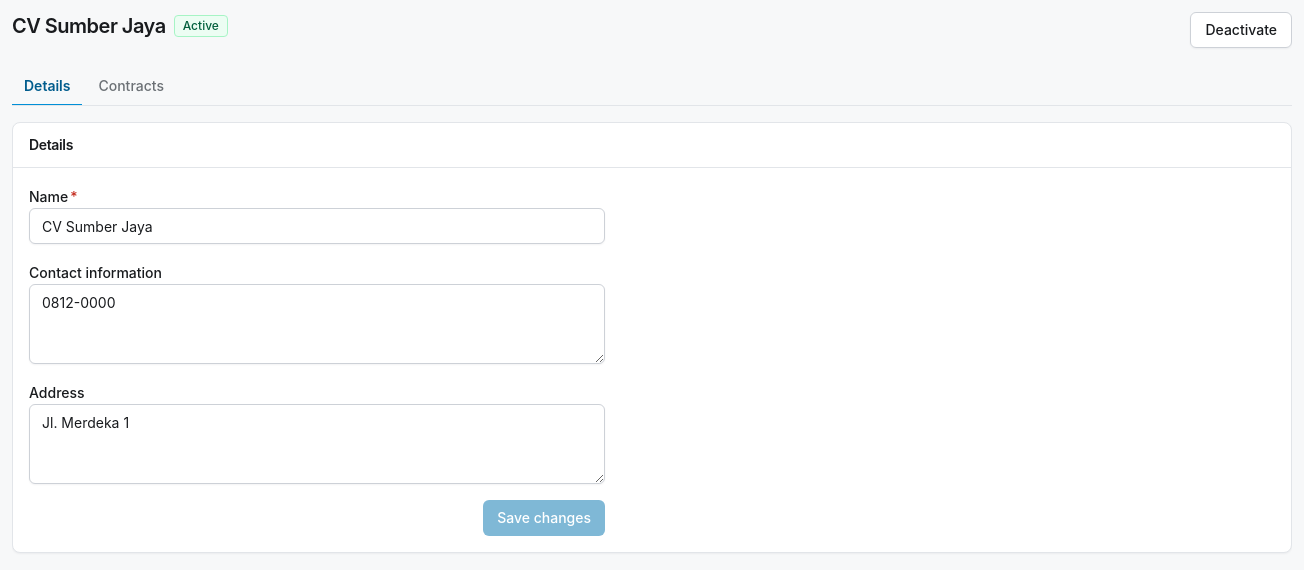
Test: SupplierDetailPage › lists the supplier’s contracts (REQ-SUPPLIER-003)
Expected: the heading "CV Sumber Jaya" is shown, x1=12 y1=12 x2=166 y2=40
Click the tab "Contracts": coordinates (131, 87) x1=86 y1=68 x2=176 y2=106
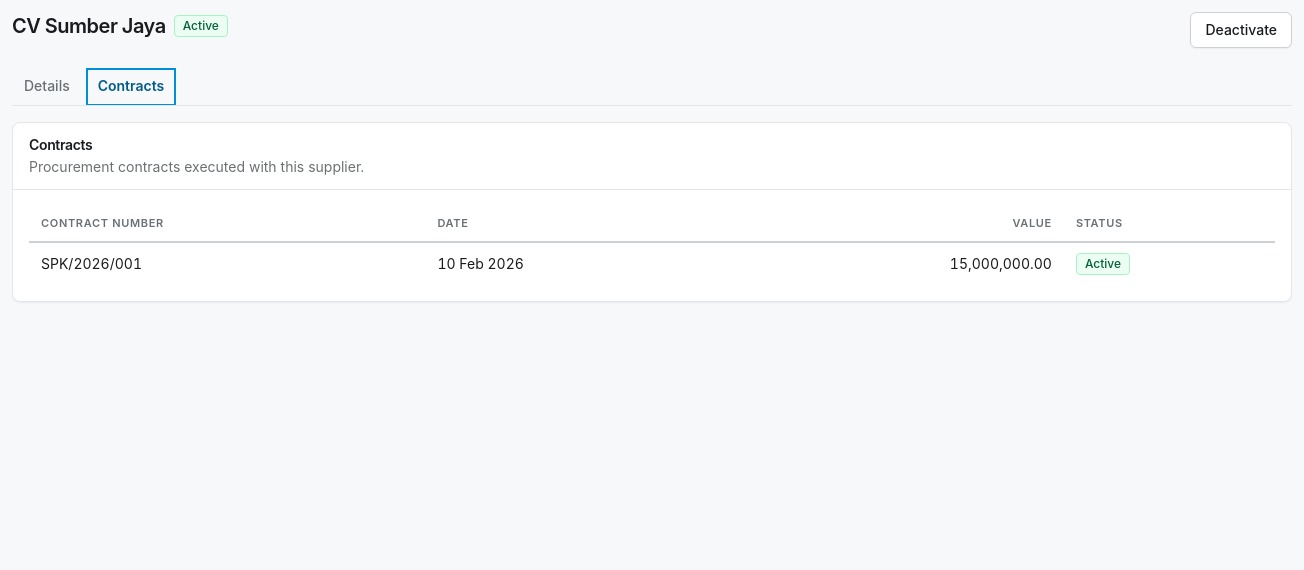
Expected: the link "SPK/2026/001" is shown, x1=41 y1=255 x2=142 y2=272
